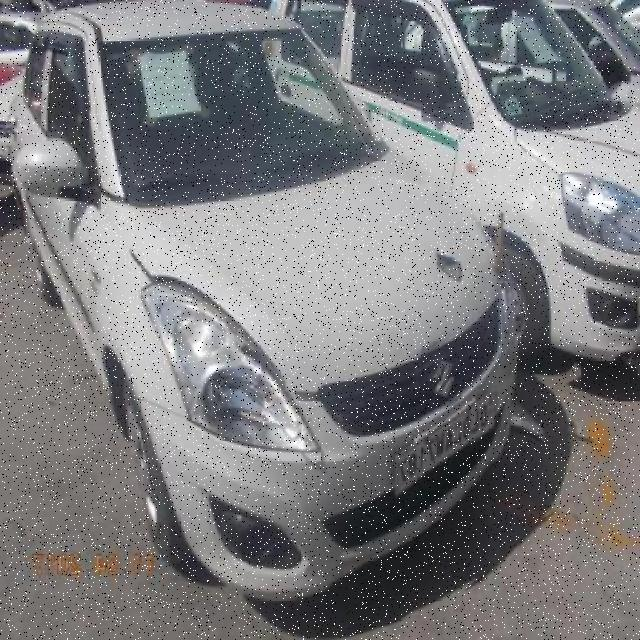damage: (132, 251, 310, 424), (481, 224, 509, 295), (432, 250, 463, 285)
